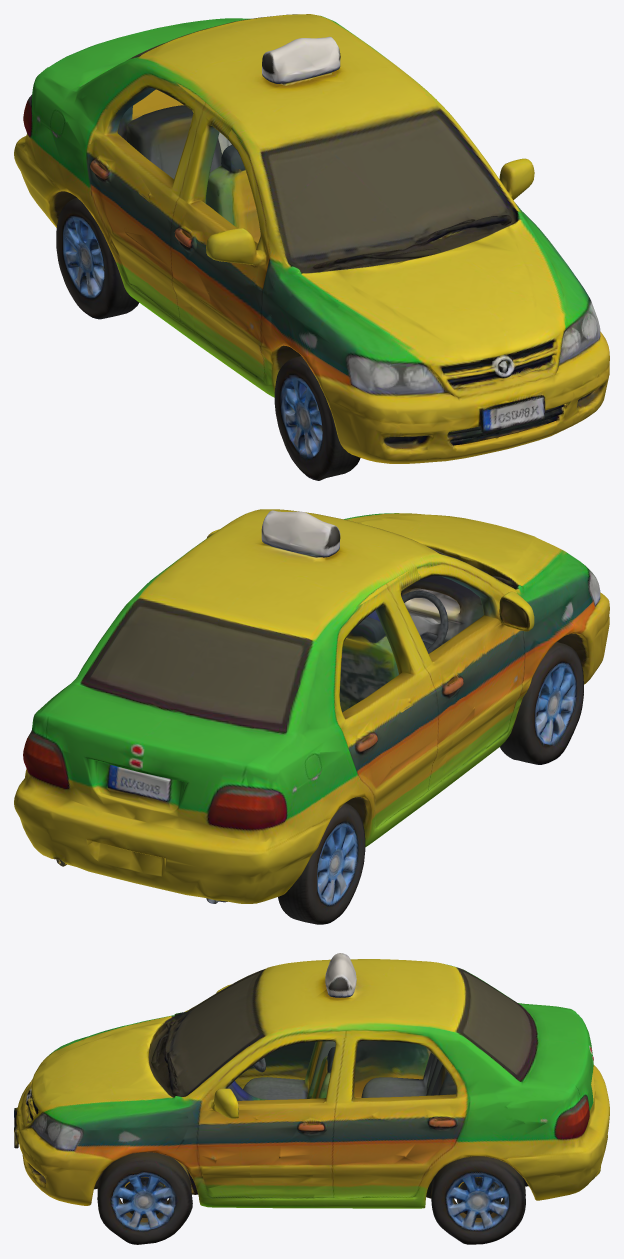
Rendered from voiture.glb.
The picture shows the model from 3 angles, top to bottom: view 1: azimuth 30°, elevation 25°; view 2: azimuth 150°, elevation 25°; view 3: azimuth 270°, elevation 25°; orthographic projection. The views are drawn at different scales.
Visible parts, largest first — view 1: tripo_node_100e8bcb-2316-427b-9c3d-9348eb8bbd52; view 2: tripo_node_100e8bcb-2316-427b-9c3d-9348eb8bbd52; view 3: tripo_node_100e8bcb-2316-427b-9c3d-9348eb8bbd52.
Boxes of the visible parts, bbox=[...] form: tripo_node_100e8bcb-2316-427b-9c3d-9348eb8bbd52: bbox=[14, 14, 609, 480]; tripo_node_100e8bcb-2316-427b-9c3d-9348eb8bbd52: bbox=[14, 509, 609, 924]; tripo_node_100e8bcb-2316-427b-9c3d-9348eb8bbd52: bbox=[14, 953, 609, 1244].
Size of the model in its own units: 0.4811 by 0.4429 by 0.9999.
1 material, 1 textured.
